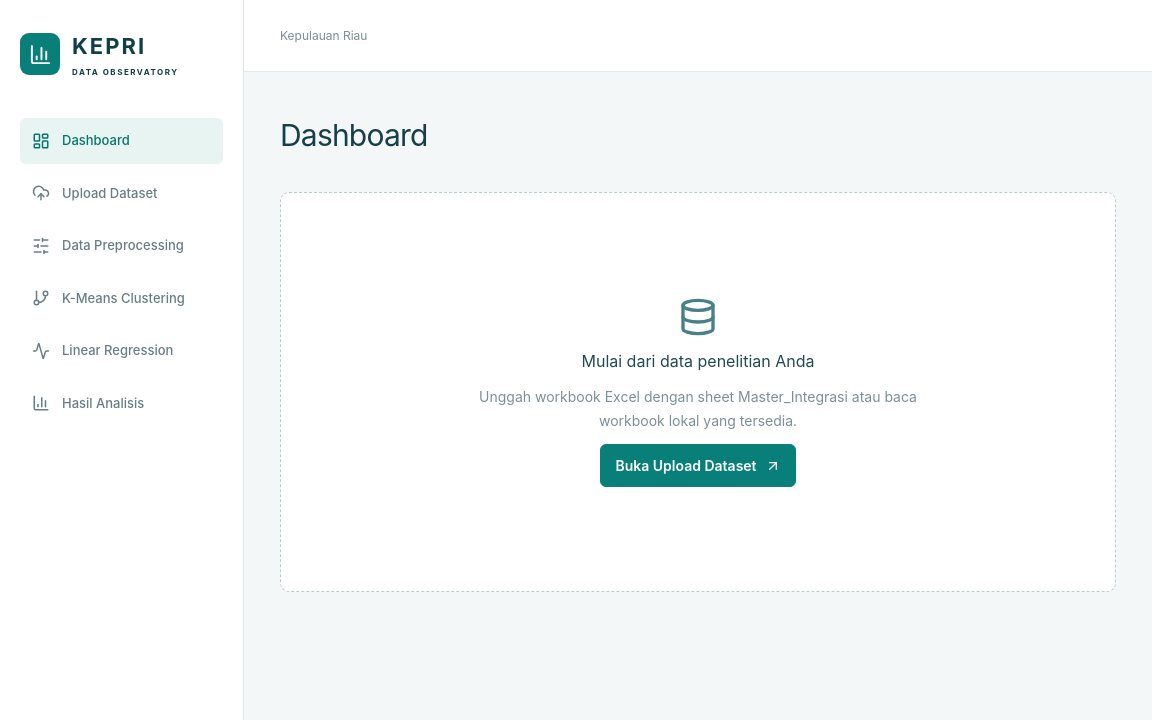
Scenario: Antarmuka analisis › navigasi enam halaman dan empty state
Check: the heading "Mulai dari data penelitian Anda" is shown, box left=582, top=349, right=814, bottom=373
Click the link "Data Preprocessing": x=108, y=246 left=32, top=237, right=184, bottom=255
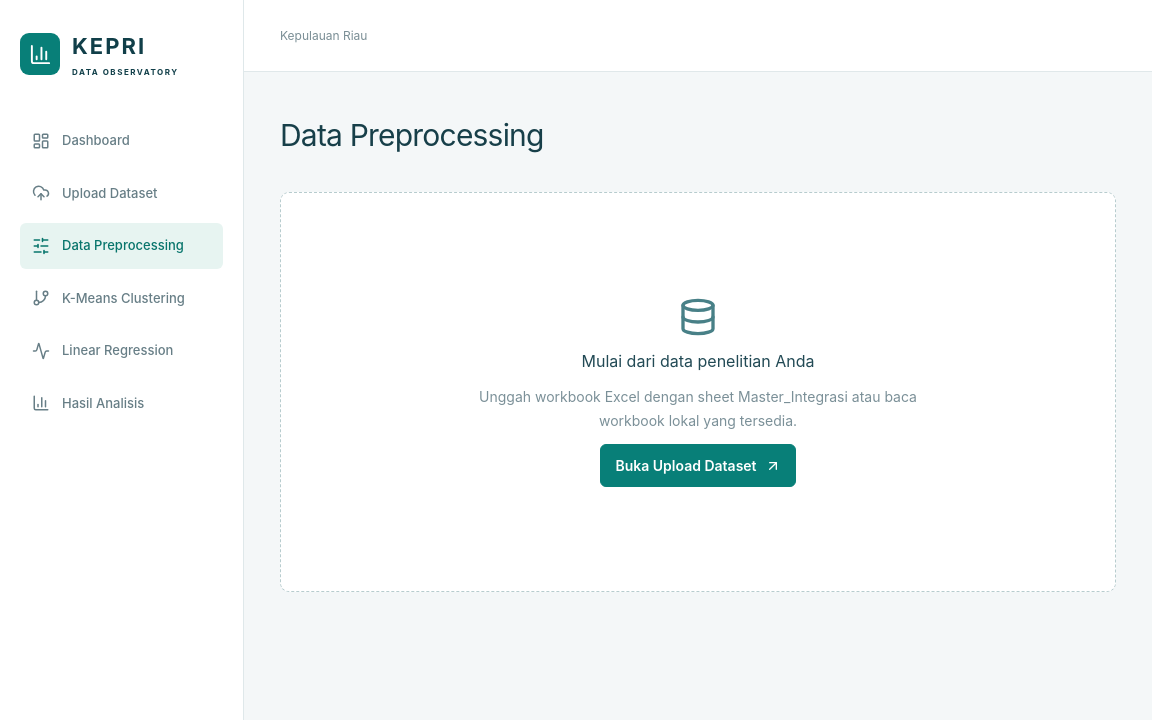
Check: the heading "Data Preprocessing" is shown, box left=280, top=113, right=544, bottom=158
Click the link "K-Means Clustering": x=108, y=298 left=32, top=289, right=185, bottom=307
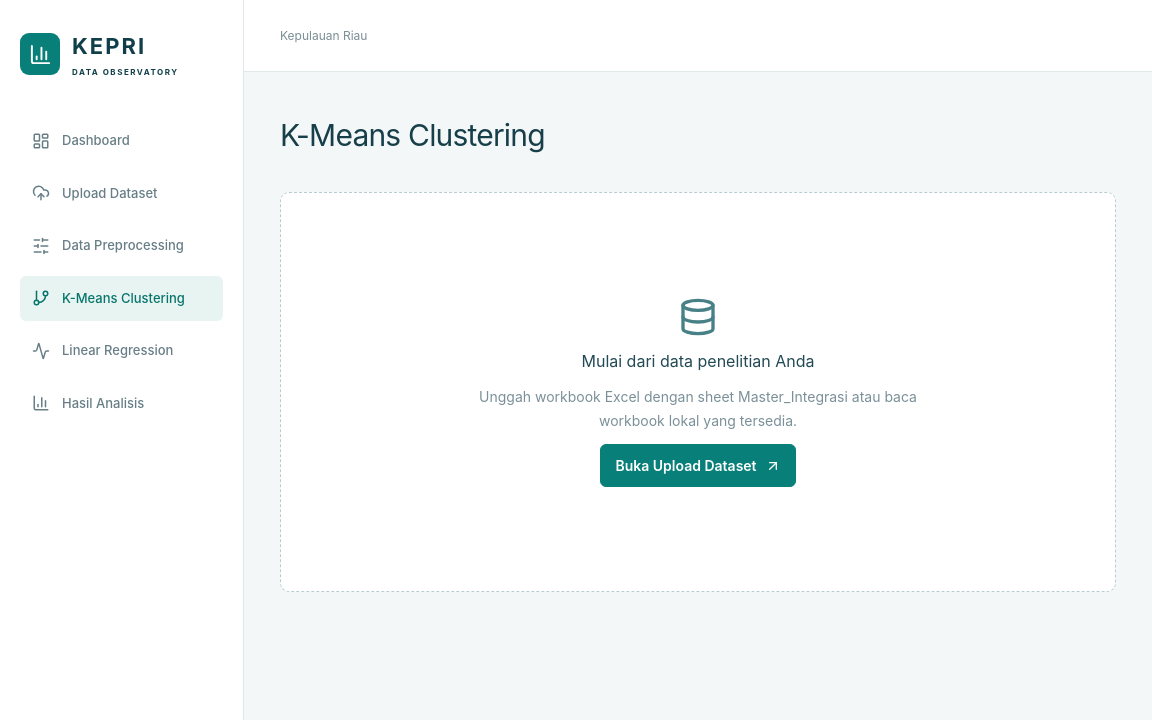
Check: the heading "K-Means Clustering" is shown, box left=280, top=113, right=545, bottom=158
Click the link "Linear Regression": x=103, y=351 left=32, top=342, right=173, bottom=360
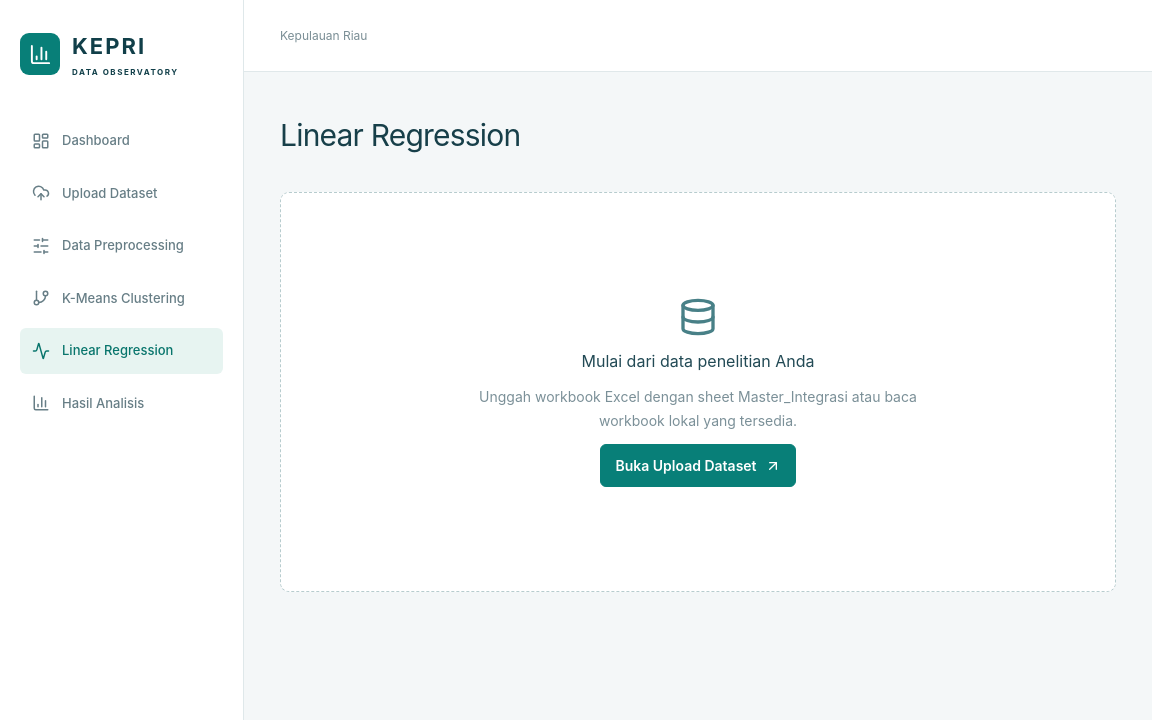
Check: the heading "Linear Regression" is shown, box left=280, top=113, right=520, bottom=158
Click the link "Hasil Analisis": x=88, y=403 left=32, top=394, right=144, bottom=412
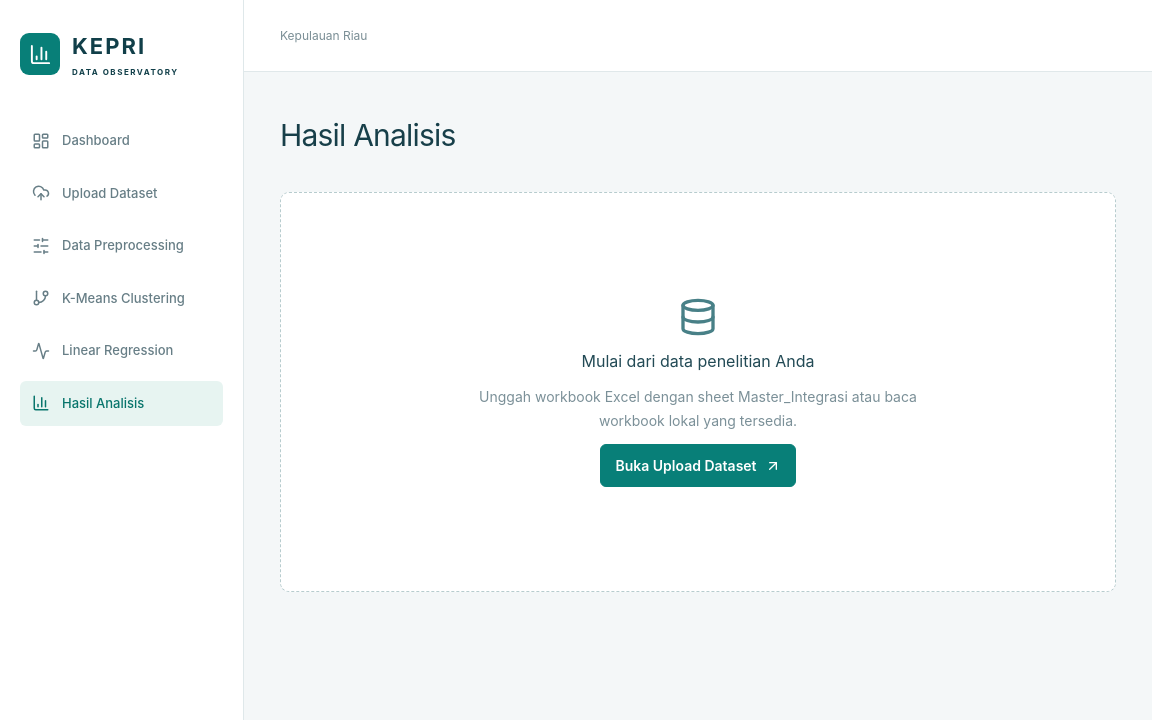
Check: the heading "Hasil Analisis" is shown, box left=280, top=113, right=456, bottom=158
Click the link "Upload Dataset": x=95, y=193 left=32, top=184, right=158, bottom=202
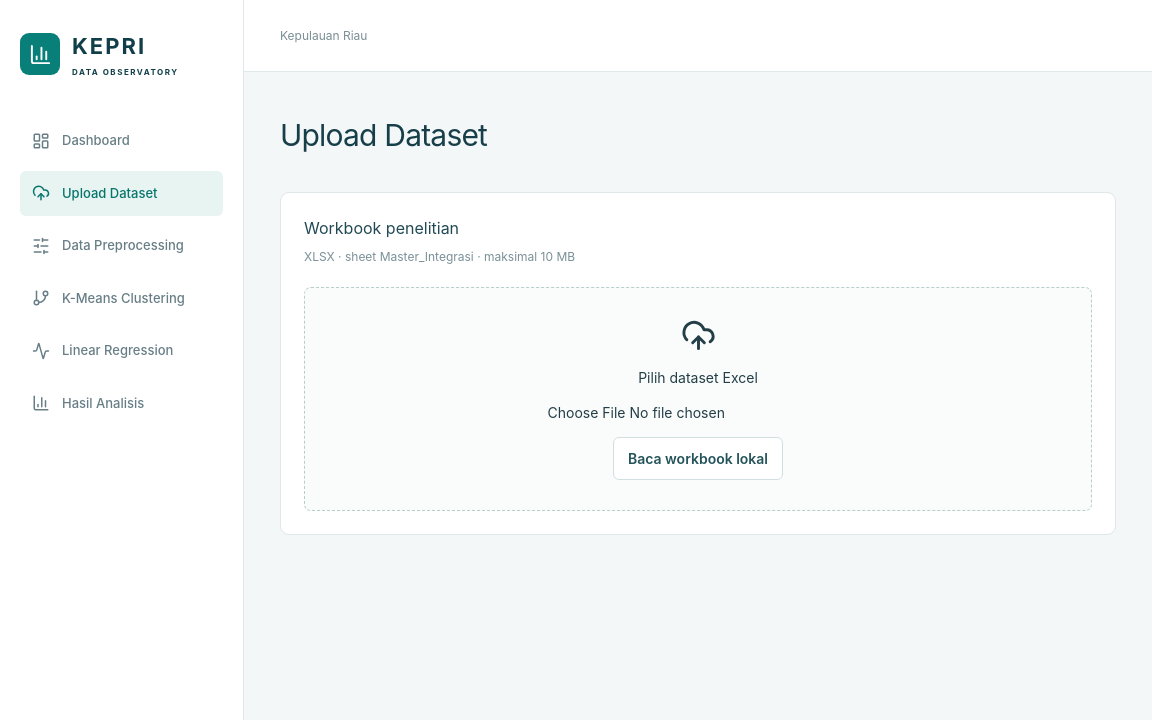
Check: the heading "Upload Dataset" is shown, box left=280, top=113, right=487, bottom=158
Click the link "Dashboard": x=81, y=141 left=32, top=132, right=130, bottom=150
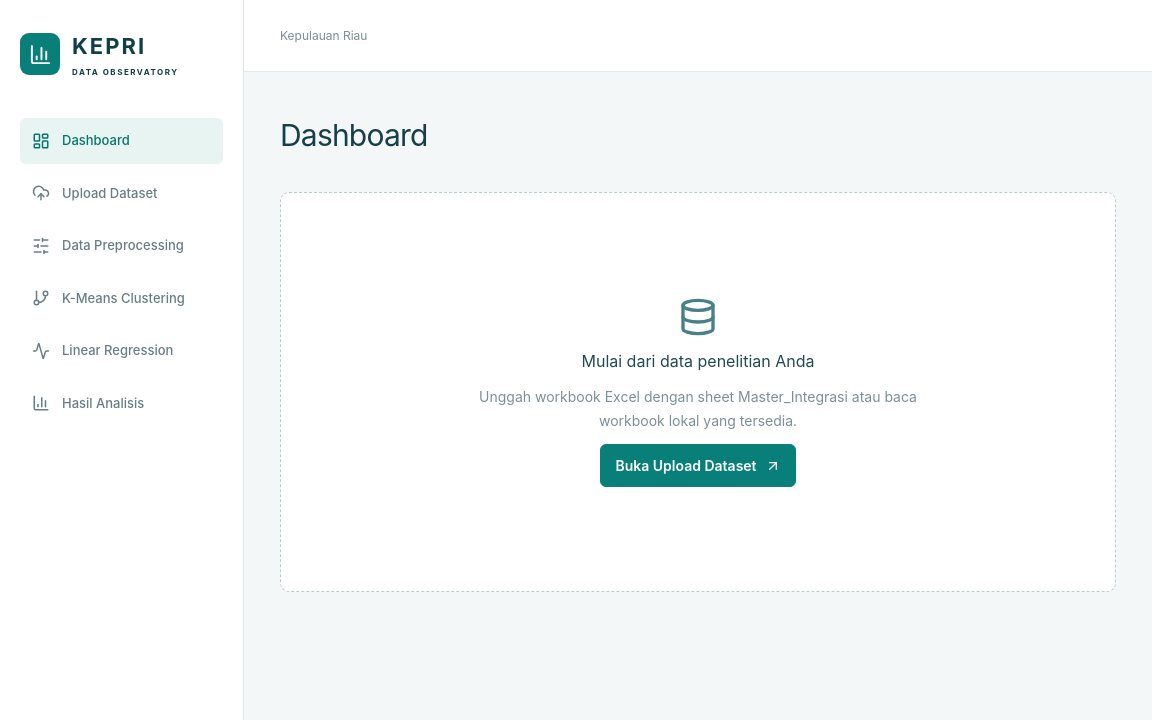
Check: the heading "Dashboard" is shown, box left=280, top=113, right=428, bottom=158
